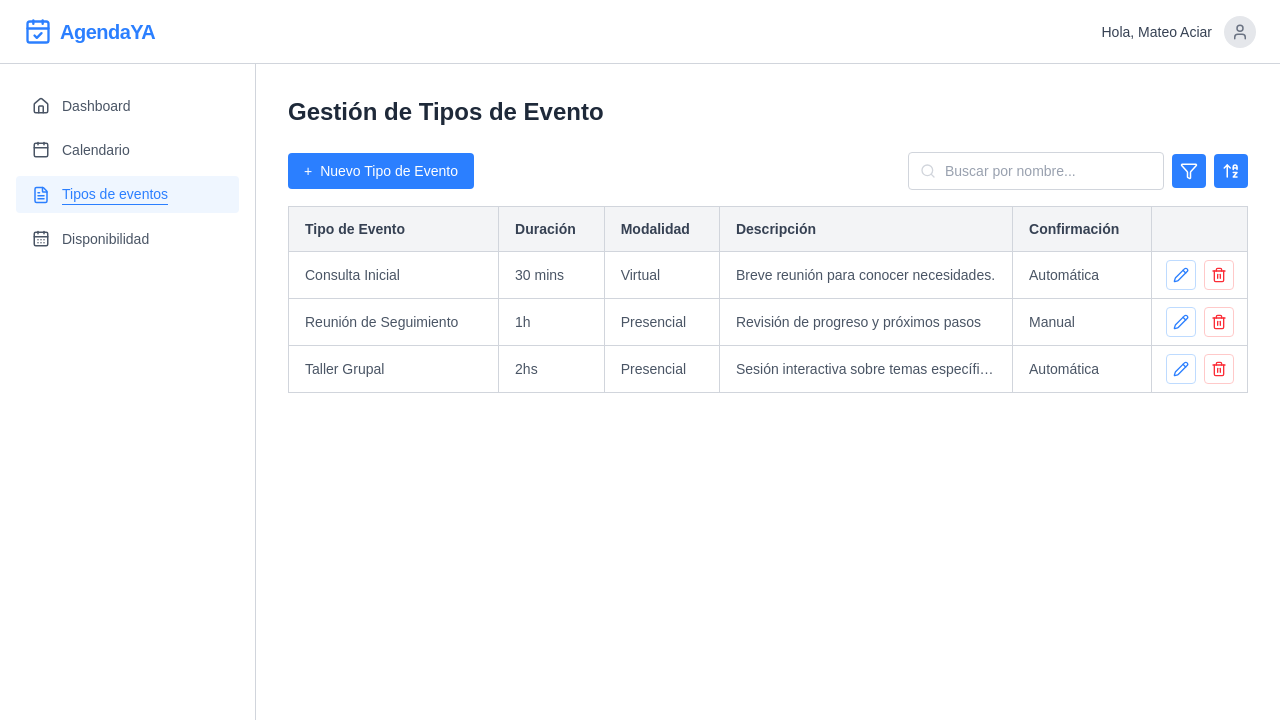
Test case: AgendaYA - Módulo 03: Tipos de Evento - Creación Exitosa de Evento › Debe crear un nuevo tipo de evento correctamente y reflejarlo en la tabla con notificación de éxito
Expected: the heading "Gestión de Tipos de Evento" is shown, [288, 98, 604, 125]
Click the button with test id "btn-new-event-type". click: (381, 171)
box: [288, 153, 474, 189]
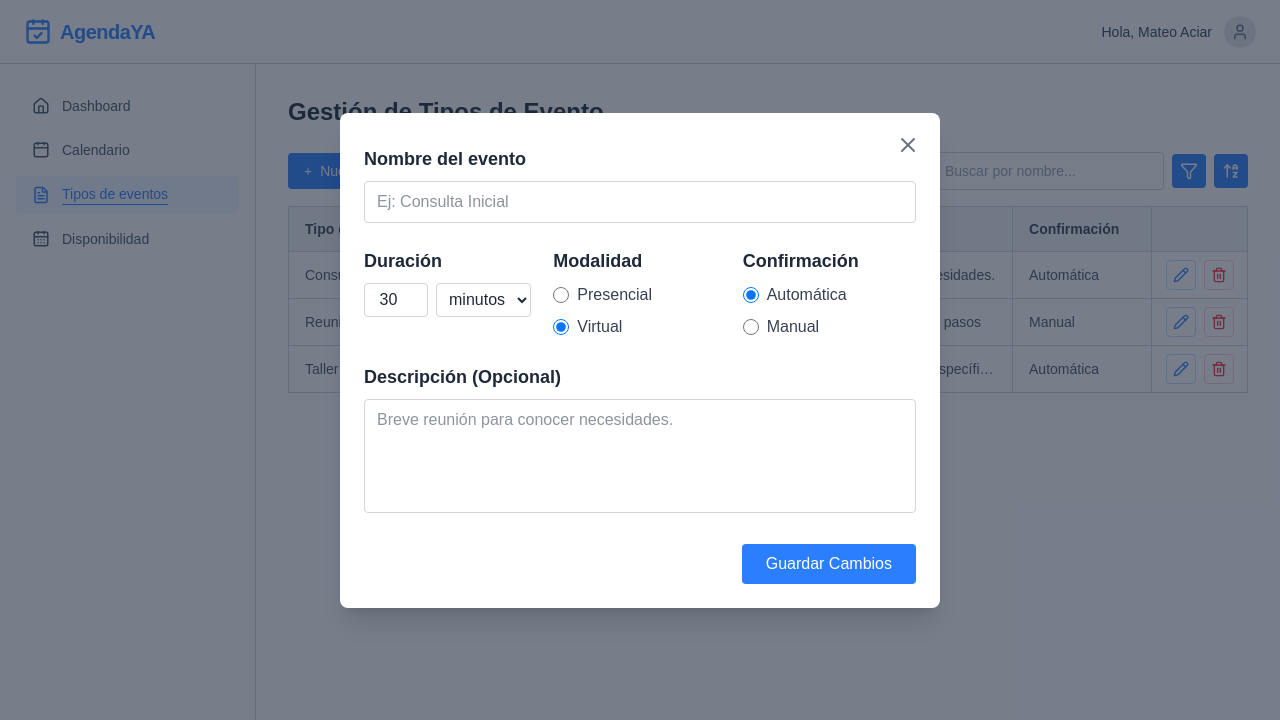
Now the element with test id "modal-event-type" is shown, box [340, 113, 940, 608]
Type "Entrevista Técnica" into the field with test id "input-event-name". click: (640, 202)
box: [364, 181, 916, 223]
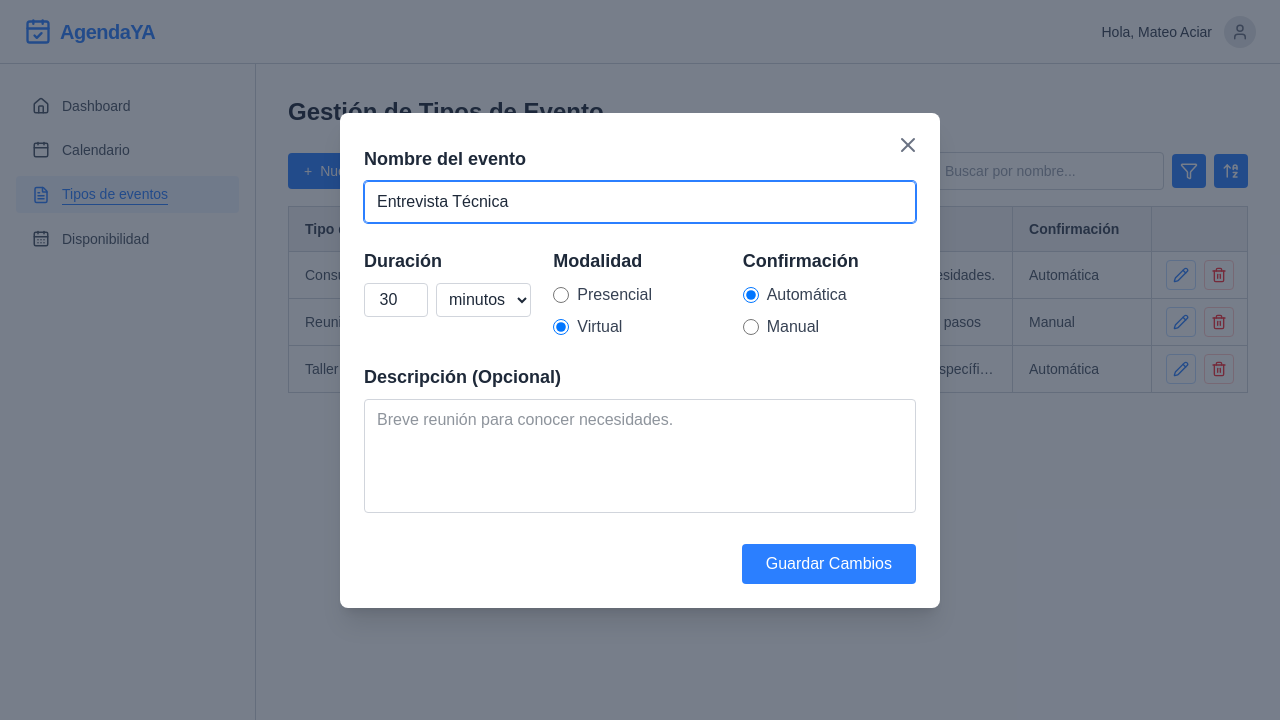
Replace the text in the number field with test id "input-event-duration" with "45". click: (396, 300)
box: [364, 283, 428, 317]
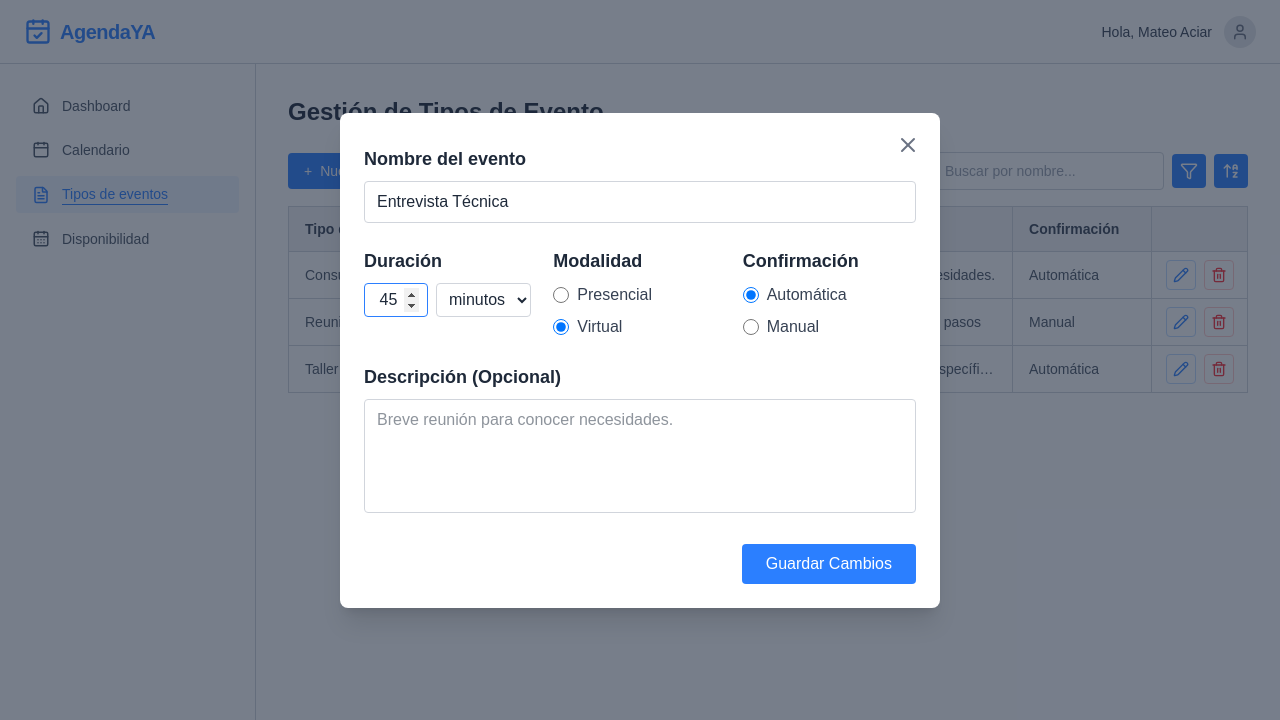
Select "minutos" in the dropdown with test id "select-duration-unit". click: (484, 300)
box: [436, 283, 531, 317]
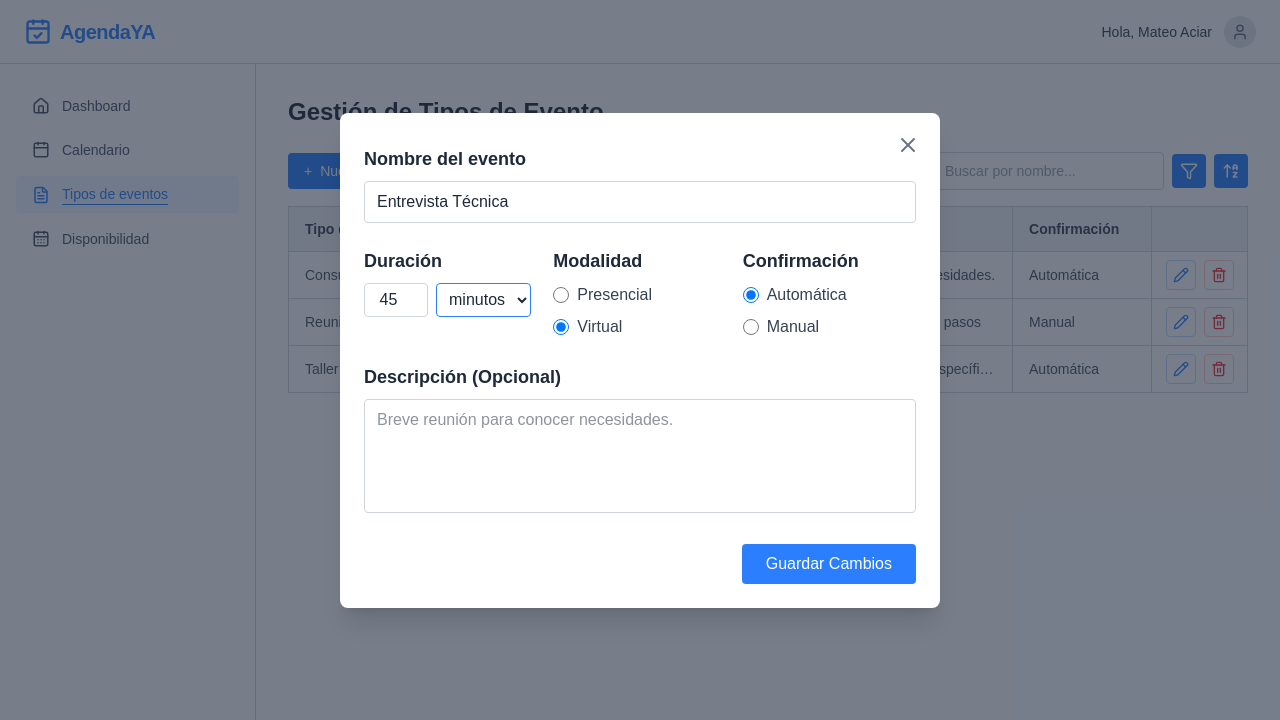
Type "Evaluación de competencias técnicas en vivo." into the text box with test id "textarea-event-description". click: (640, 456)
box: [364, 399, 916, 513]
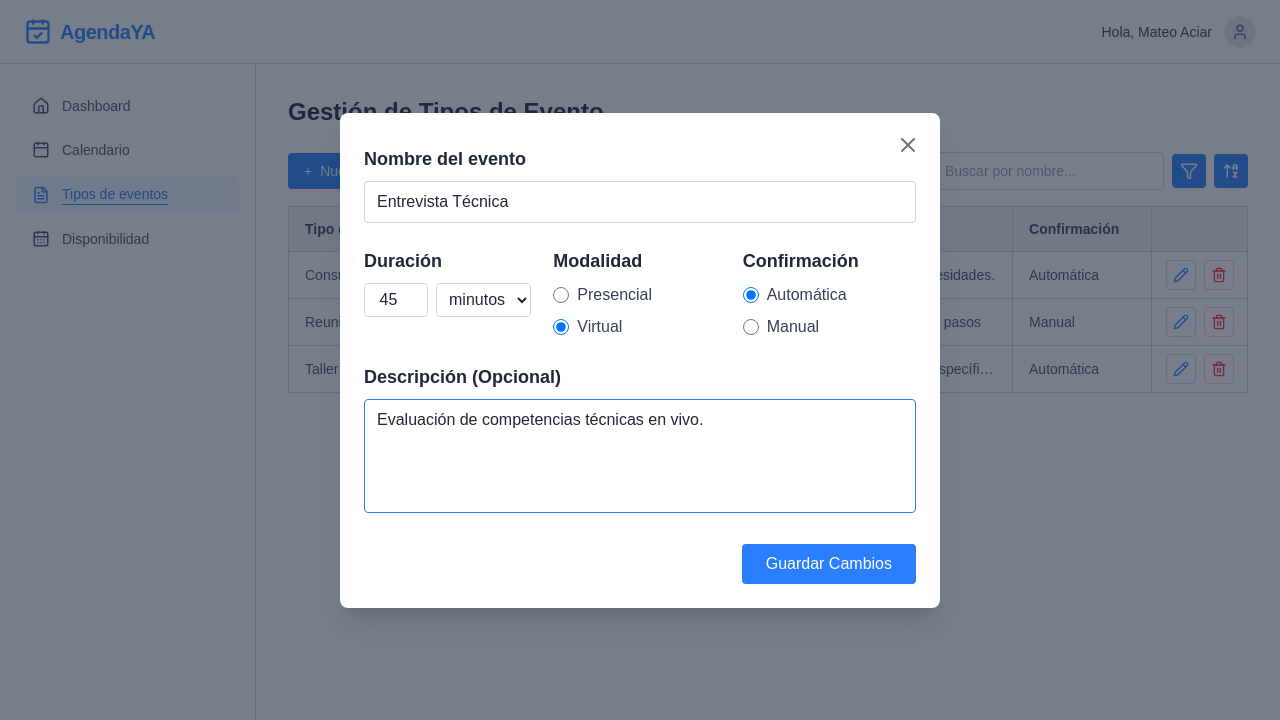
Click the button with test id "btn-save-event". click: (829, 564)
box: [742, 544, 916, 584]
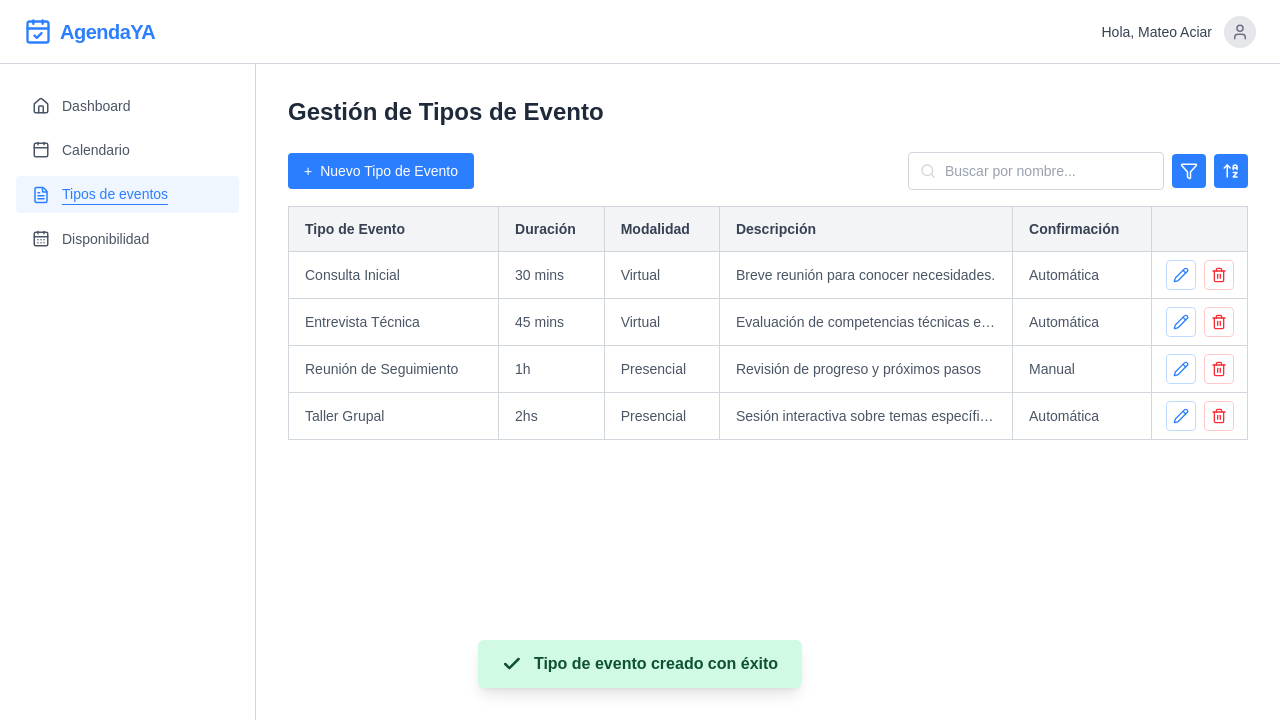
Now the element with test id "toast-notification" reads "Tipo de evento creado con éxito", box [478, 640, 802, 688]
Now the text "Entrevista Técnica" is shown, box [305, 314, 420, 330]
Now the cell with test id "cell-event-name" reads "Entrevista Técnica", box [289, 299, 499, 346]
